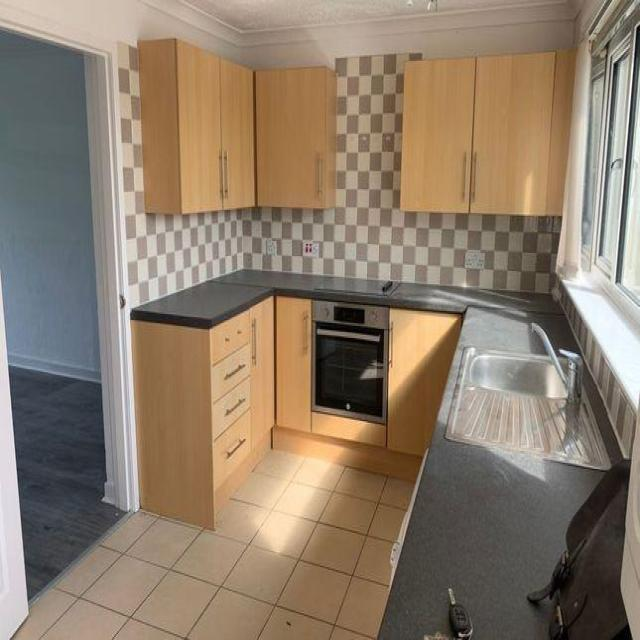Wall: (244, 54, 559, 292), (16, 450, 411, 639), (118, 43, 355, 307), (0, 0, 580, 69), (0, 30, 100, 382), (9, 367, 124, 597), (179, 1, 438, 34), (440, 1, 530, 11)
